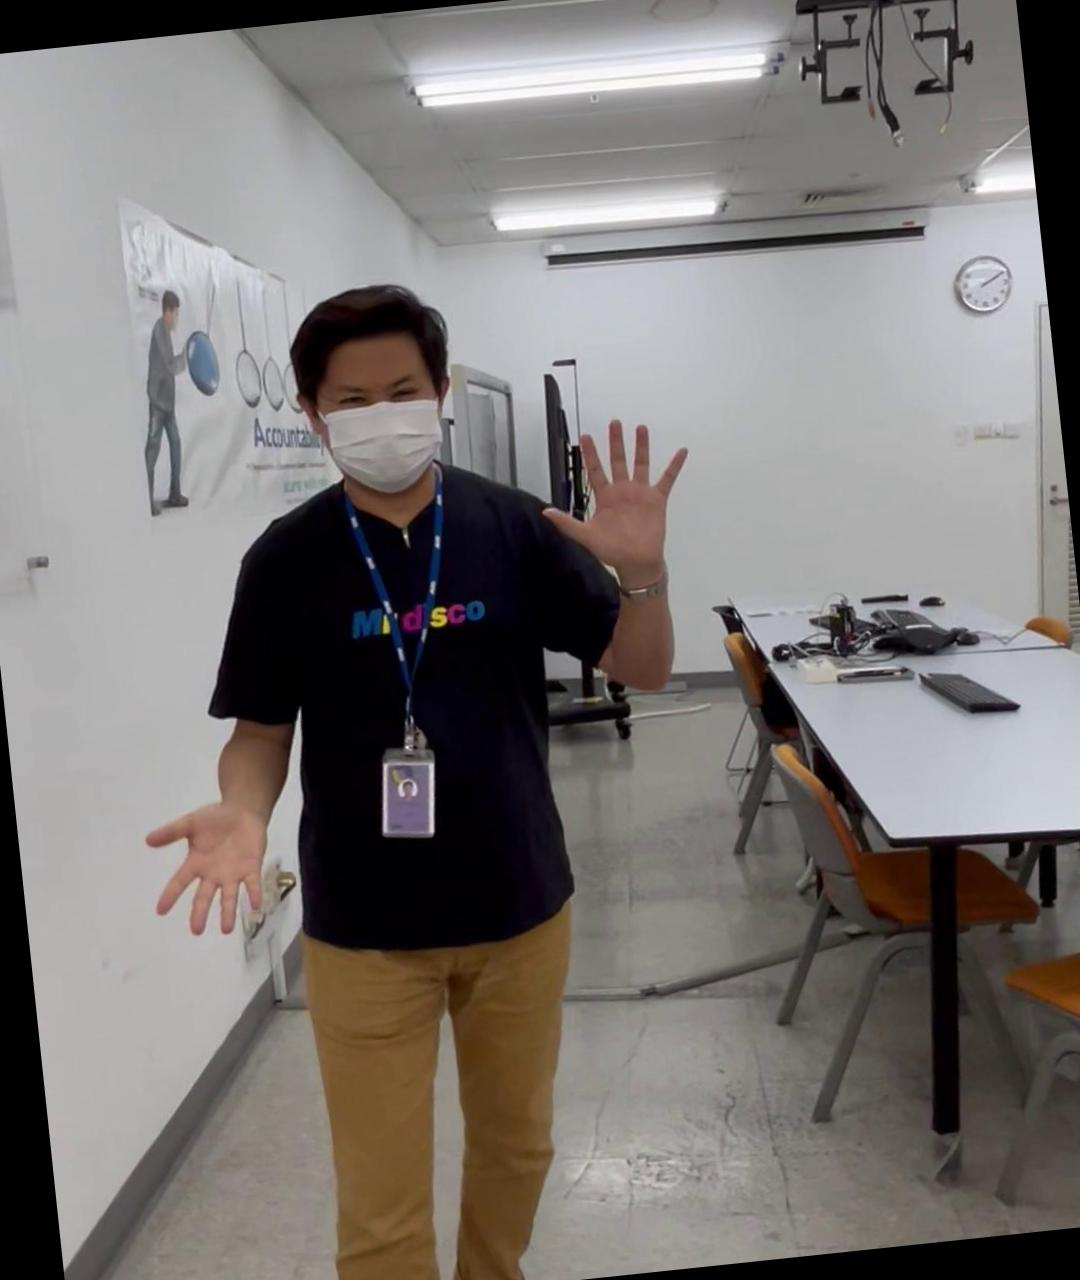No-gloves: (525, 411, 691, 576), (138, 790, 283, 945)
